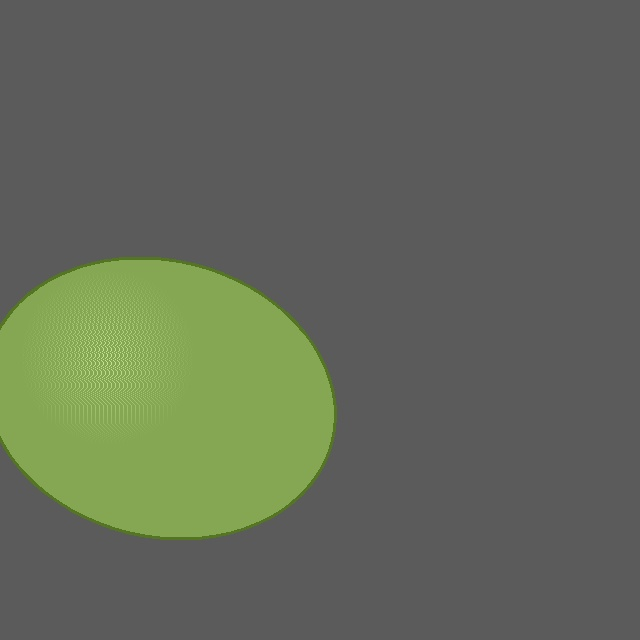lens: (0, 258, 335, 538)
